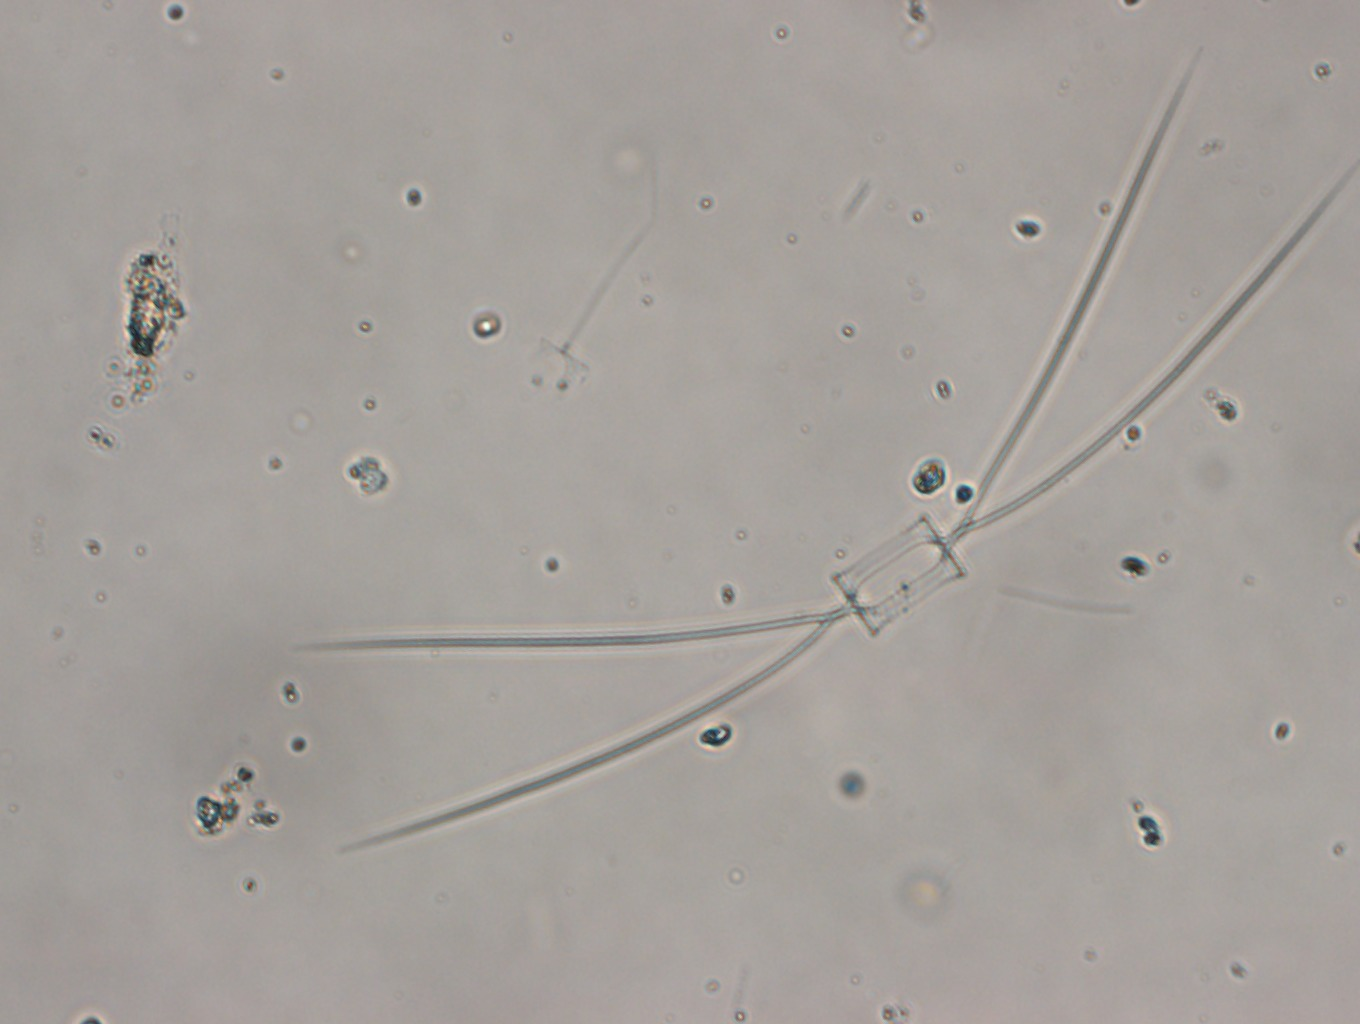chaetoceros: (314, 54, 1360, 848)
